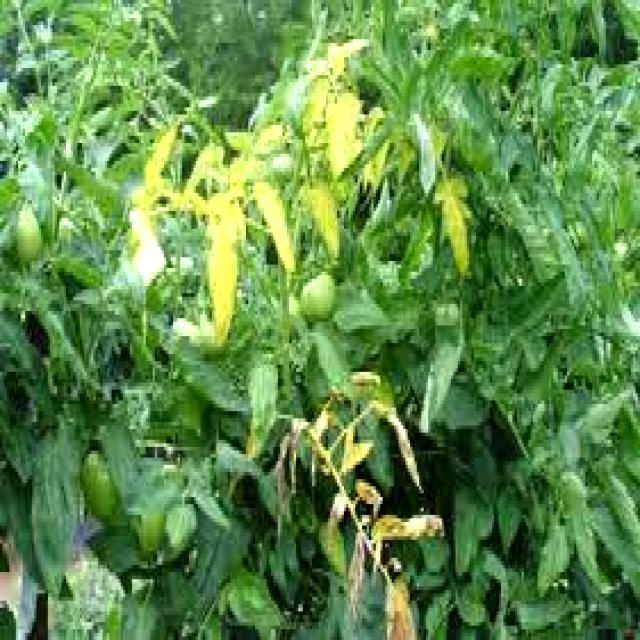yellowish leaf: (102, 76, 502, 347), (273, 368, 451, 640)
